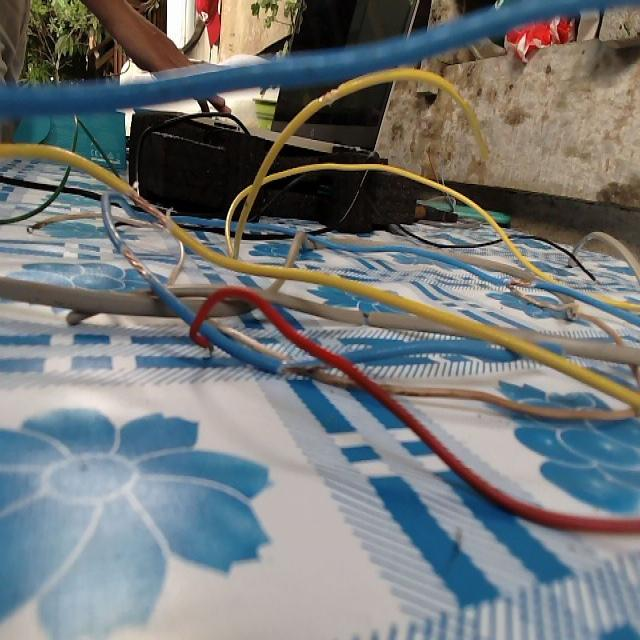-: (128, 186, 169, 233), (115, 236, 152, 284), (274, 358, 331, 378), (501, 270, 536, 290), (355, 303, 378, 329), (24, 215, 50, 236)
